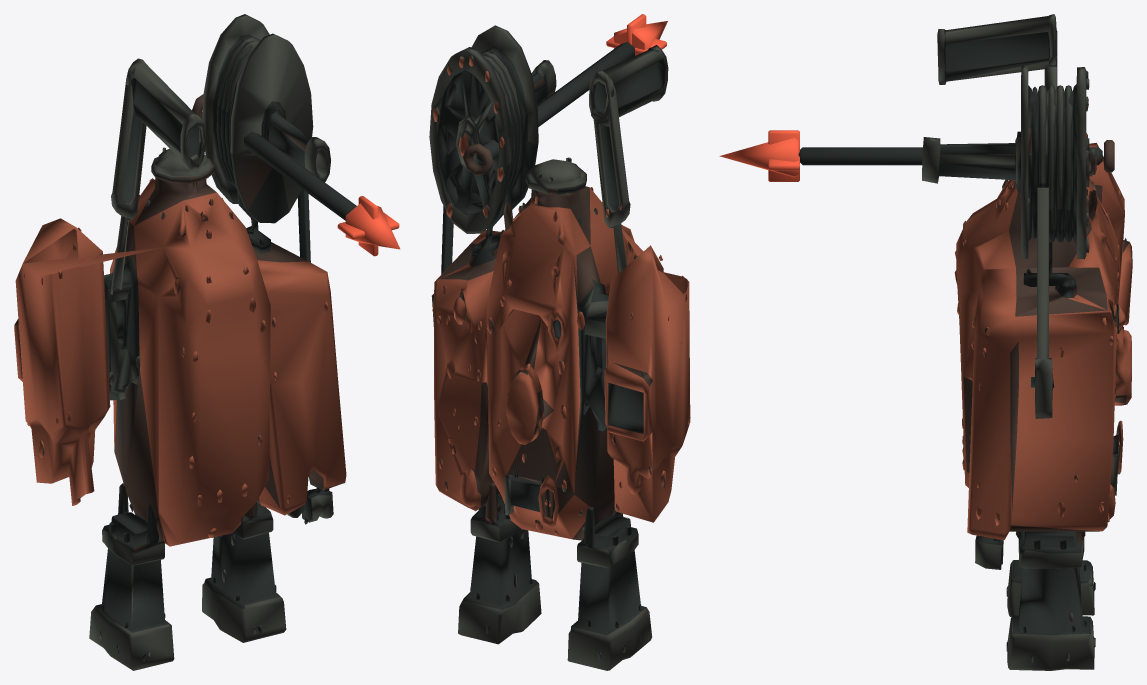
File: enemy_hooker_tripo.glb
3 views of the same model, side by side, from view 1: azimuth 30°, elevation 25°; view 2: azimuth 150°, elevation 25°; view 3: azimuth 270°, elevation 25° (orthographic). The views are drawn at different scales.
Visible parts, largest first — view 1: HookerBody, HookerHarpoonMesh; view 2: HookerBody, HookerHarpoonMesh; view 3: HookerBody, HookerHarpoonMesh.
Part boxes in pixels (<box>): HookerBody: <box>14,14,346,670</box>; HookerHarpoonMesh: <box>192,94,400,256</box>; HookerBody: <box>429,25,690,670</box>; HookerHarpoonMesh: <box>462,14,667,175</box>; HookerBody: <box>922,14,1132,670</box>; HookerHarpoonMesh: <box>719,130,1114,181</box>.
Size of the model in its own units: 2.34 by 5.03 by 3.13.
